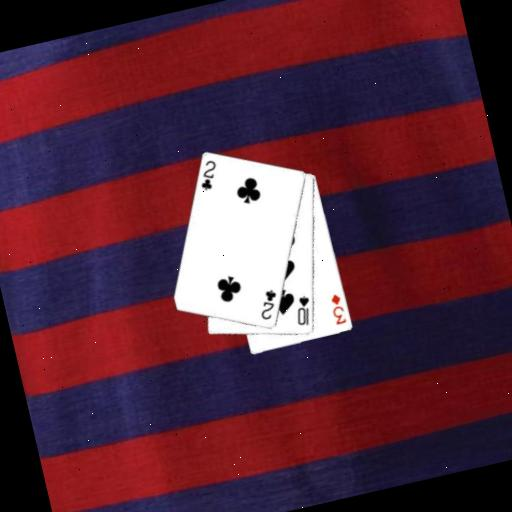10S: (289, 292, 317, 330)
2C: (252, 286, 283, 323), (193, 156, 223, 194)
3D: (326, 290, 349, 328)
